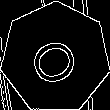O_NE: (24, 27, 86, 88)
